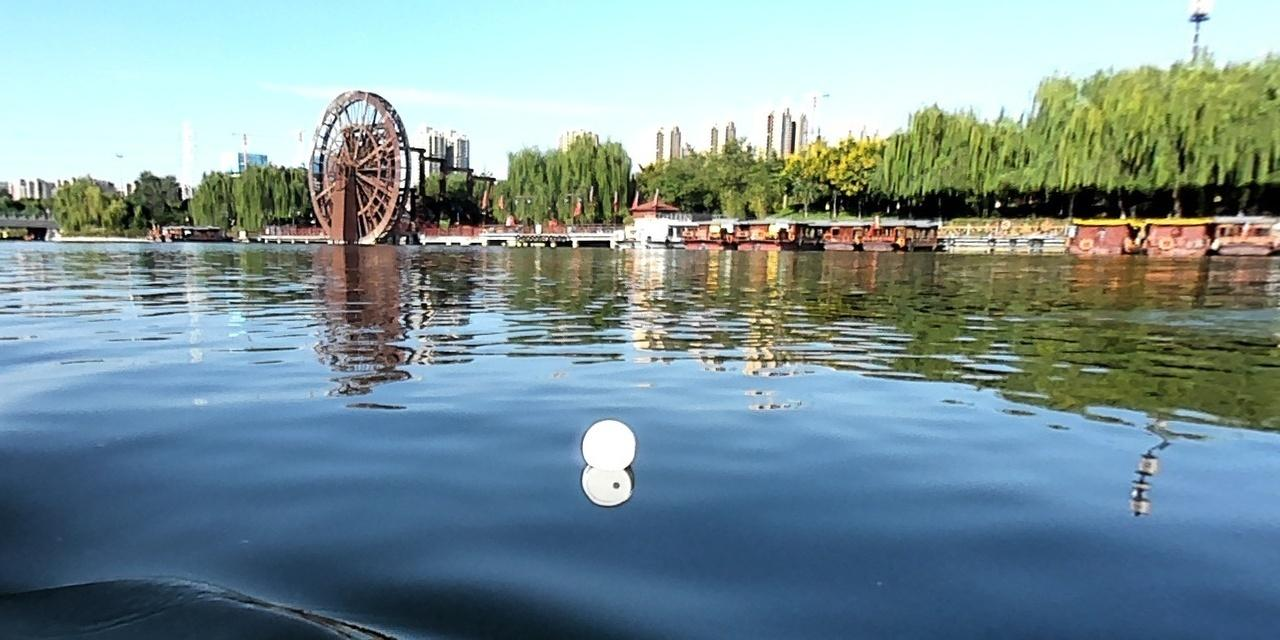bottle: (578, 415, 640, 472)
